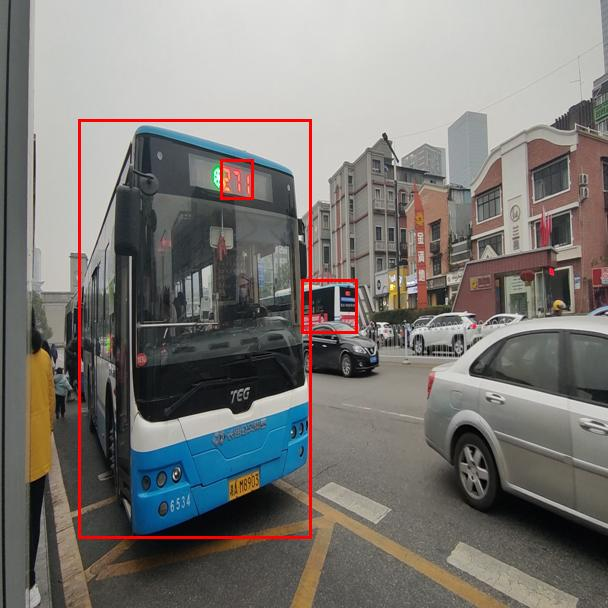bus: (78, 119, 311, 538), (301, 279, 357, 333)
screen: (220, 159, 253, 199)
